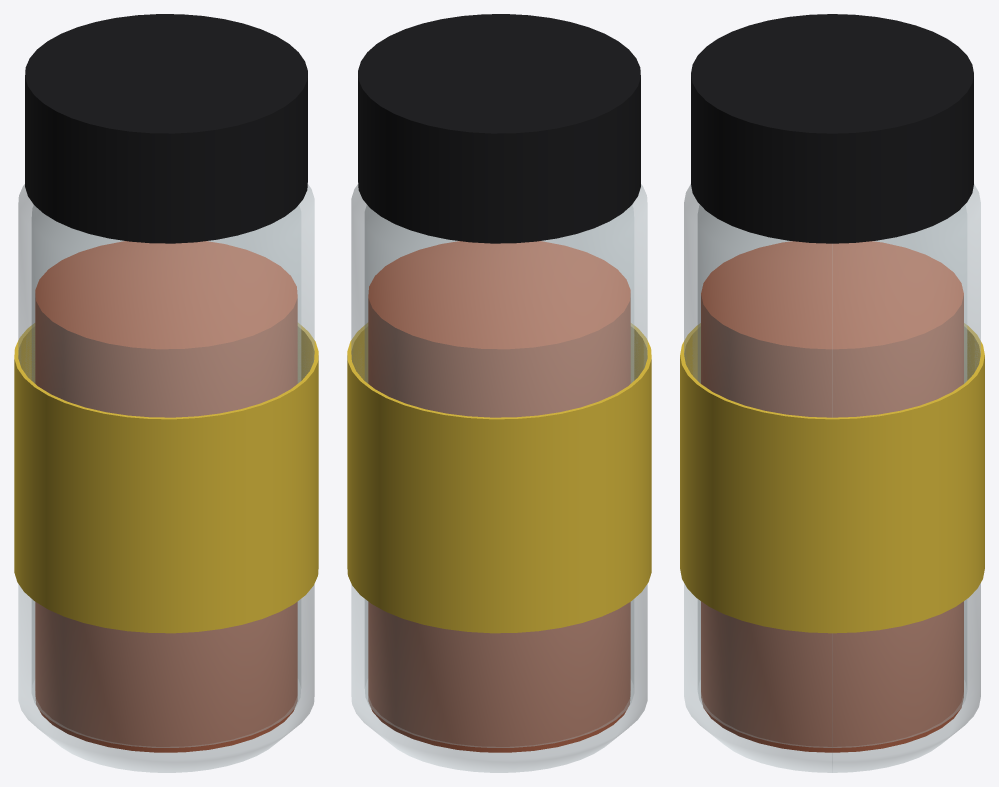
File: salmuera.glb
3 views of the same model, side by side, from view 1: azimuth 30°, elevation 25°; view 2: azimuth 150°, elevation 25°; view 3: azimuth 270°, elevation 25° (orthographic).
Visible parts, largest first — view 1: Glass jar body - Glass (alpha-blended), Contents (spice) - Contents, paprika, Label band - Label band, yellow, Screw cap - Black plastic; view 2: Glass jar body - Glass (alpha-blended), Contents (spice) - Contents, paprika, Label band - Label band, yellow, Screw cap - Black plastic; view 3: Glass jar body - Glass (alpha-blended), Contents (spice) - Contents, paprika, Label band - Label band, yellow, Screw cap - Black plastic.
Boxes of the visible parts, x1,y1,x2,y2 form: Glass jar body - Glass (alpha-blended): [18, 184, 314, 772]; Contents (spice) - Contents, paprika: [35, 241, 297, 752]; Label band - Label band, yellow: [14, 323, 318, 633]; Screw cap - Black plastic: [25, 14, 307, 243]; Glass jar body - Glass (alpha-blended): [351, 184, 647, 772]; Contents (spice) - Contents, paprika: [368, 241, 630, 752]; Label band - Label band, yellow: [347, 323, 651, 633]; Screw cap - Black plastic: [358, 14, 640, 243]; Glass jar body - Glass (alpha-blended): [684, 184, 980, 772]; Contents (spice) - Contents, paprika: [701, 241, 963, 752]; Label band - Label band, yellow: [680, 323, 984, 633]; Screw cap - Black plastic: [691, 14, 973, 243].
Bounding box in the file's own units: 0.0452 × 0.106 × 0.0452.
Materials: 4 (4 with a texture image).
